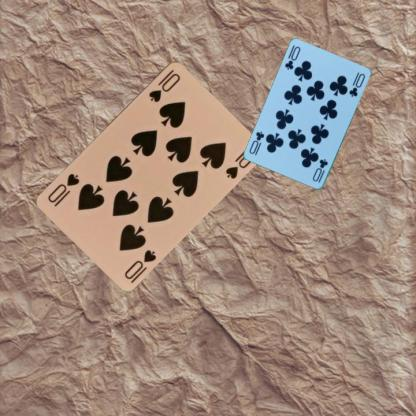10c: (282, 44, 302, 71), (310, 157, 329, 184)
10s: (146, 66, 182, 103), (122, 246, 158, 280)
